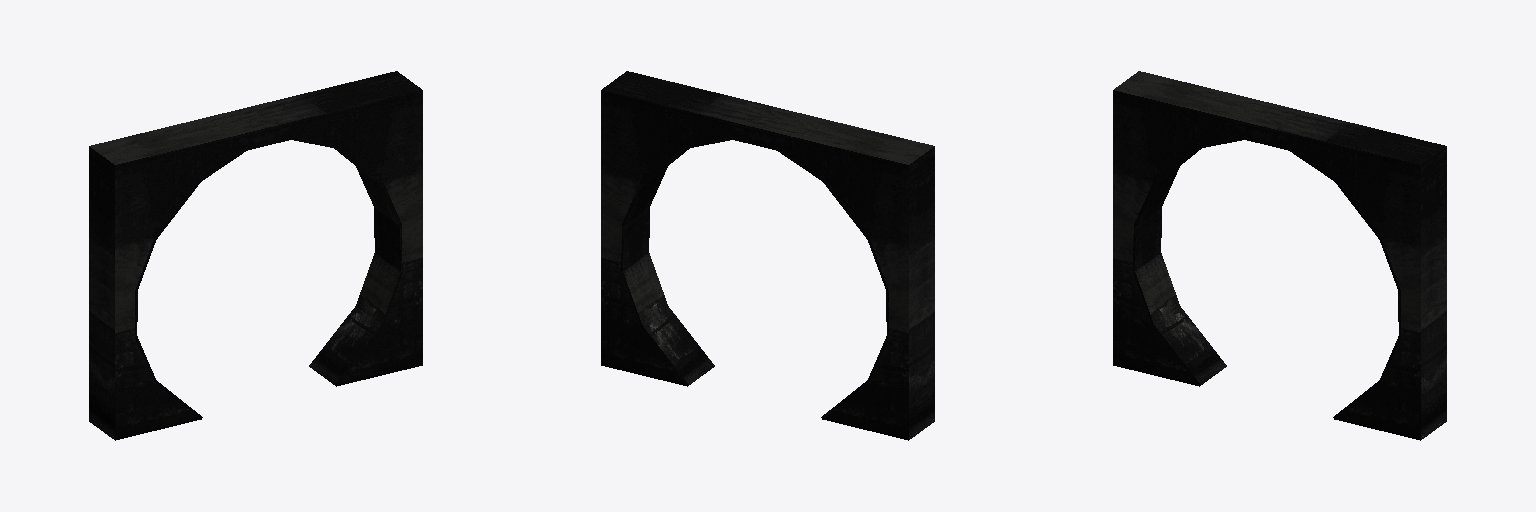
The picture shows the model from 3 angles: view 1: azimuth 30°, elevation 25°; view 2: azimuth 150°, elevation 25°; view 3: azimuth 330°, elevation 25°; orthographic projection.
Parts seen in each view (by area): view 1: Cubeasd, cube.012; view 2: Cubeasd, cube.012; view 3: Cubeasd, cube.012.
Part boxes in pixels (left/top/right/bottom): Cubeasd: left=89, top=71, right=422, bottom=440; cube.012: left=135, top=137, right=402, bottom=419; Cubeasd: left=601, top=71, right=934, bottom=440; cube.012: left=620, top=137, right=888, bottom=419; Cubeasd: left=1113, top=71, right=1446, bottom=440; cube.012: left=1132, top=137, right=1400, bottom=419.
Bounding box in the file's own units: 6.81 × 5.83 × 1.
Materials: 1 (1 with a texture image).